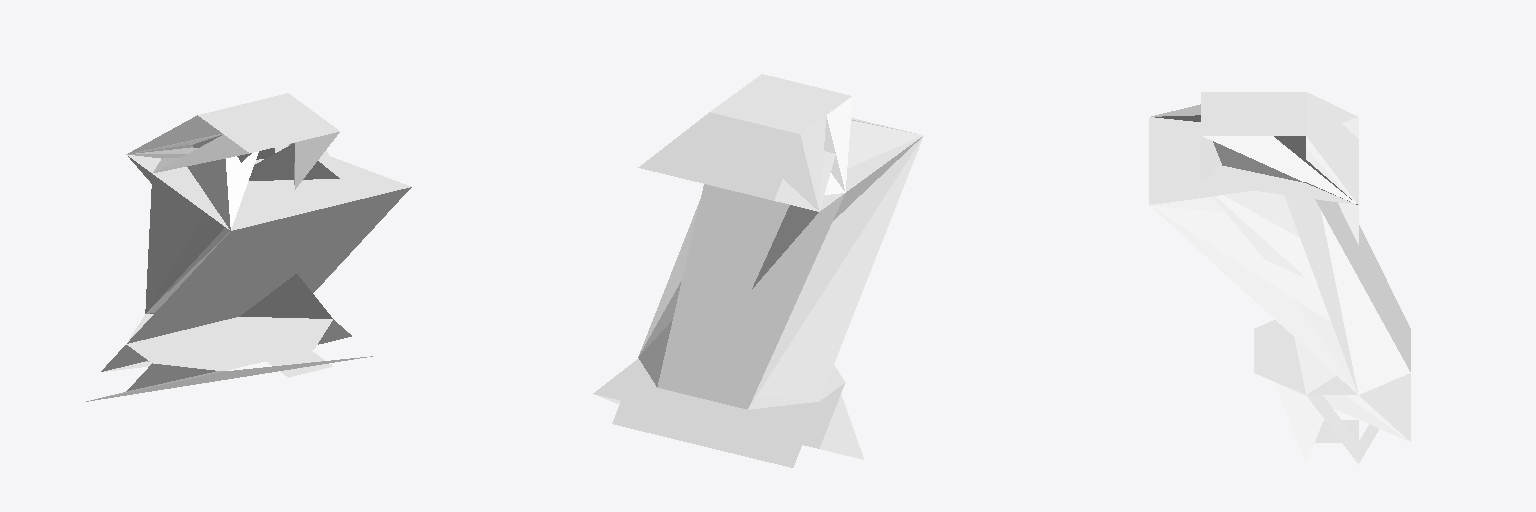
File: Skeleton_Run1.obj
3 renders of one model, left to right at view 1: azimuth 30°, elevation 25°; view 2: azimuth 150°, elevation 25°; view 3: azimuth 270°, elevation 25°, orthographic.
Size of the model in its own units: 6 by 6 by 5.